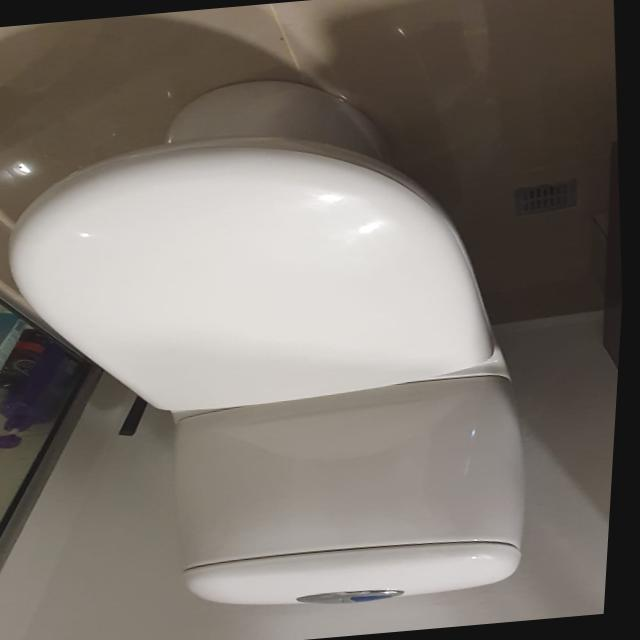toilet: (0, 57, 561, 633)
